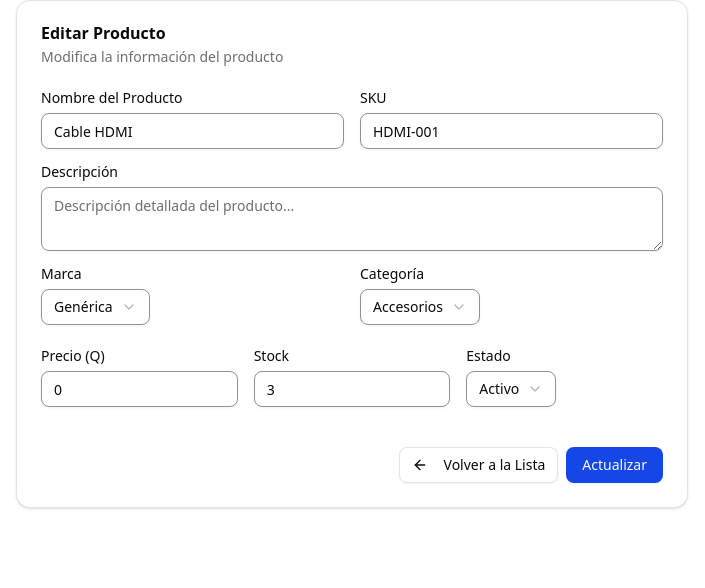
Test: ProductForm › shows the backend reason when saving fails
Click the button "Actualizar": (615, 465) [566,447,663,483]
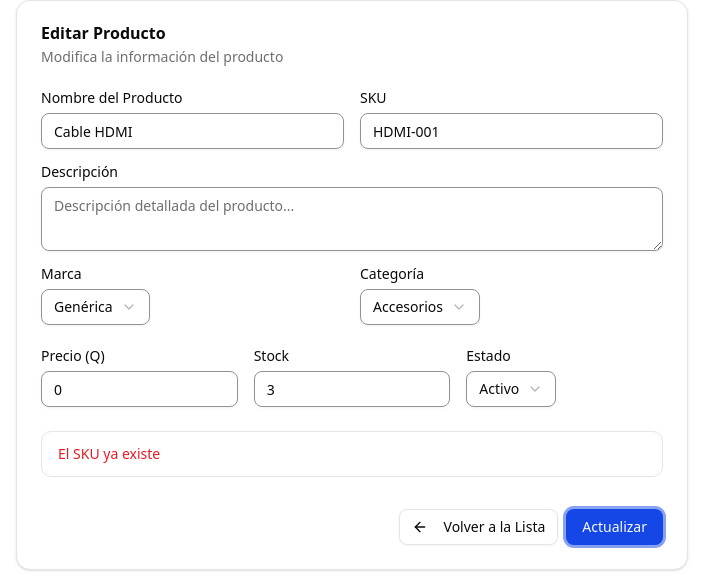
Now the text "El SKU ya existe" is shown, box [58,444,160,463]
